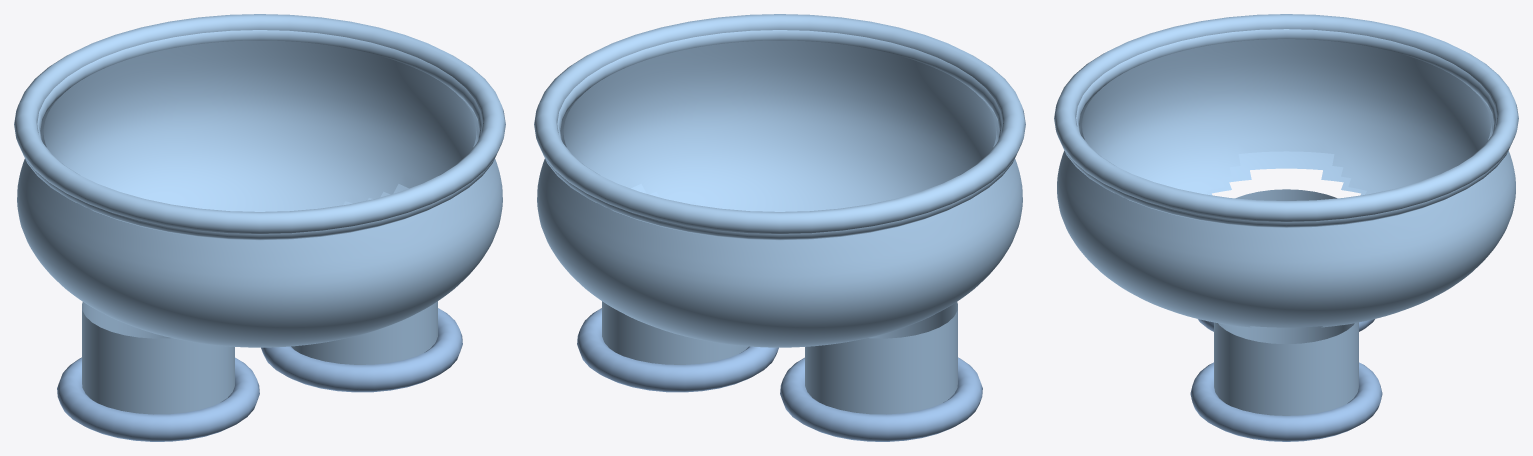
File: shorts.glb
3 views of the same model, side by side, from view 1: azimuth 30°, elevation 25°; view 2: azimuth 150°, elevation 25°; view 3: azimuth 270°, elevation 25° (orthographic). The views are drawn at different scales.
Parts seen in each view (by area): view 1: BodyGirl, BodyBoy, LegL, LegR; view 2: BodyGirl, BodyBoy, LegL, LegR; view 3: BodyGirl, BodyBoy, LegR, LegL.
Part boxes in pixels (x1,y1,x2,y2): BodyGirl: [14, 14, 505, 347]; BodyBoy: [25, 30, 494, 240]; LegL: [57, 302, 259, 441]; LegR: [261, 301, 462, 392]; BodyGirl: [534, 14, 1025, 347]; BodyBoy: [545, 30, 1014, 240]; LegL: [780, 302, 982, 441]; LegR: [577, 301, 778, 392]; BodyGirl: [1054, 14, 1518, 327]; BodyBoy: [1064, 29, 1508, 227]; LegR: [1190, 322, 1382, 441]; LegL: [1198, 189, 1374, 331].
Bounding box in the file's own units: 0.4616 × 0.2732 × 0.4616.
